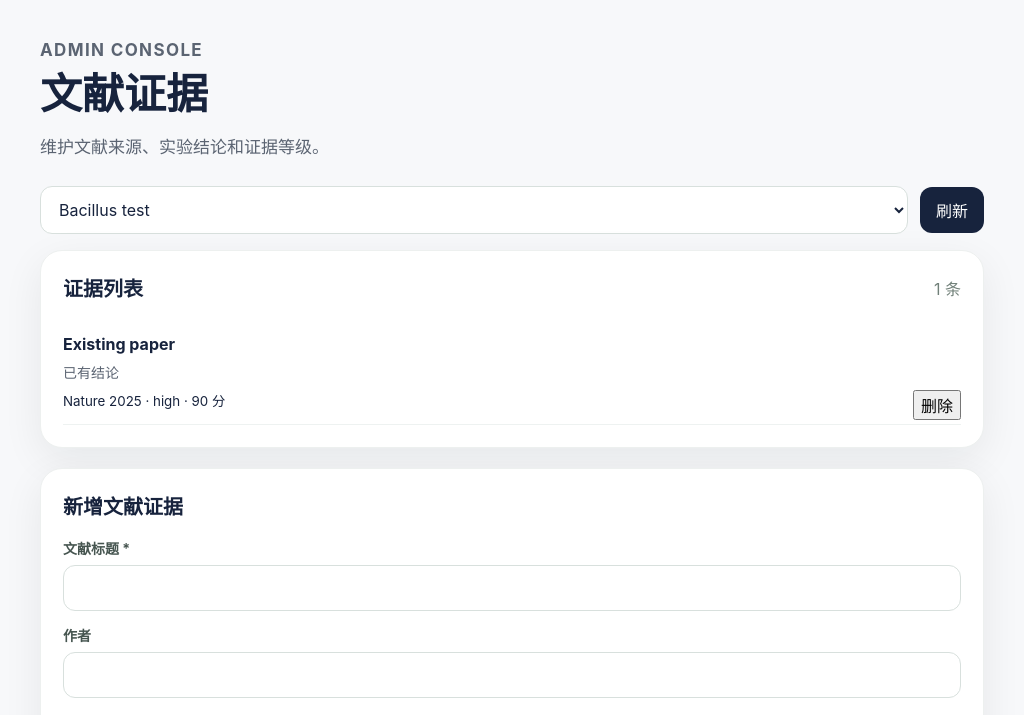
EvidenceManagement › 切换菌种后按当前关联删除证据
expect the text "Existing paper" is shown: met, box [63,334,175,354]
Step 1. Select "Yeast test" in the dropdown named "关联菌种" → (474, 210), box [40,186,908,234]
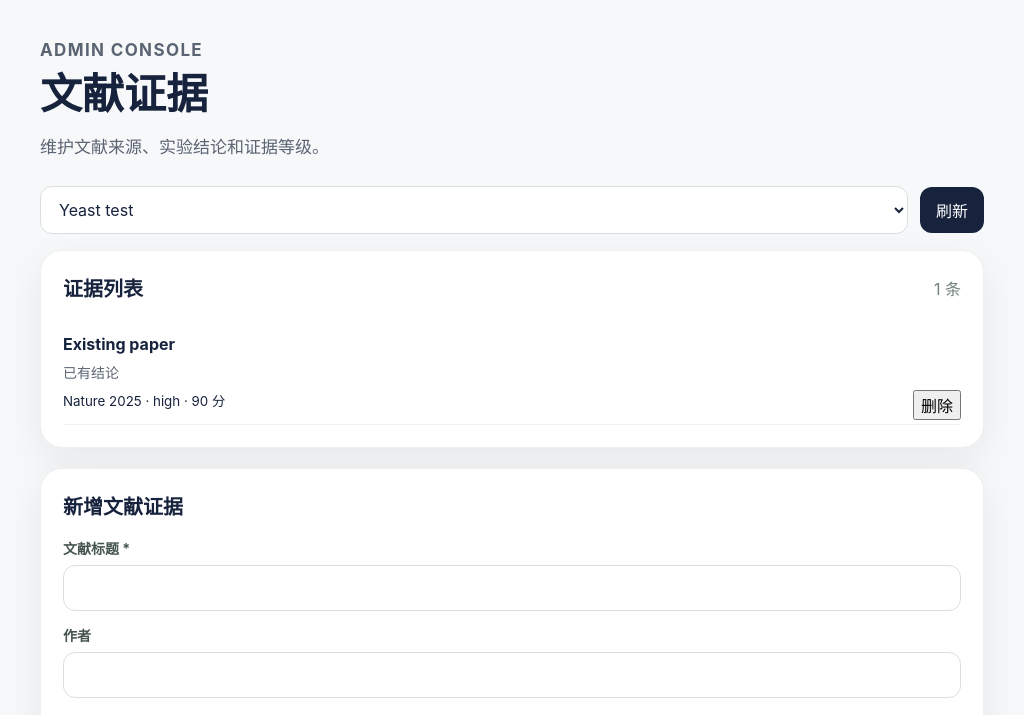
Step 2. Click the button "删除" → (937, 405), box [913,390,961,420]
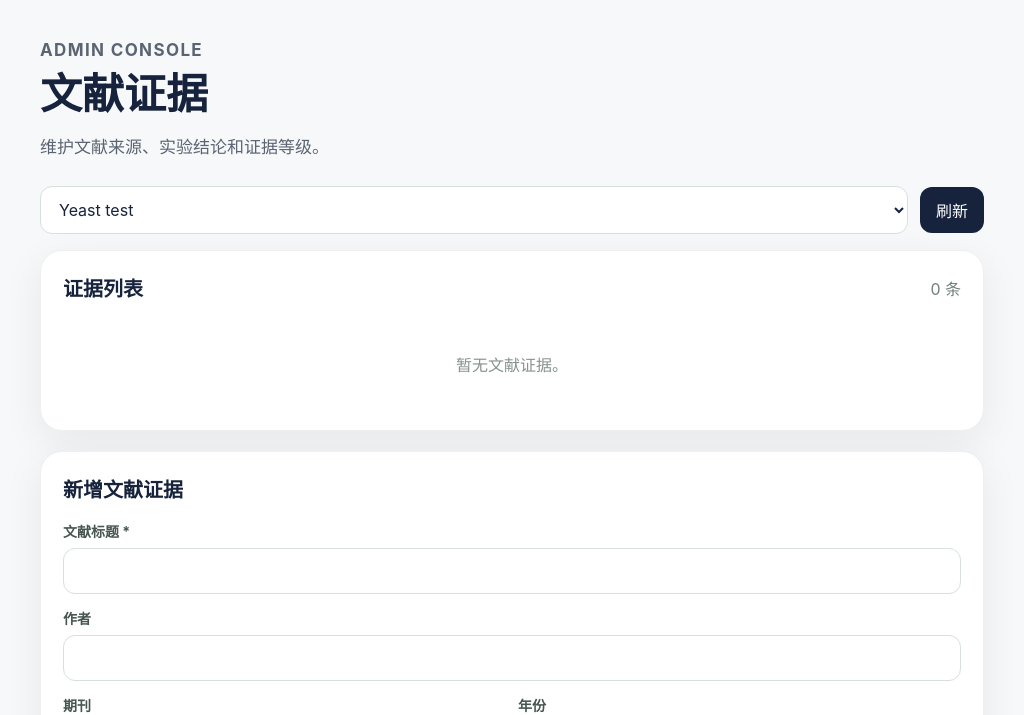
expect the text "暂无文献证据。" is shown: met, box [456,355,568,375]
